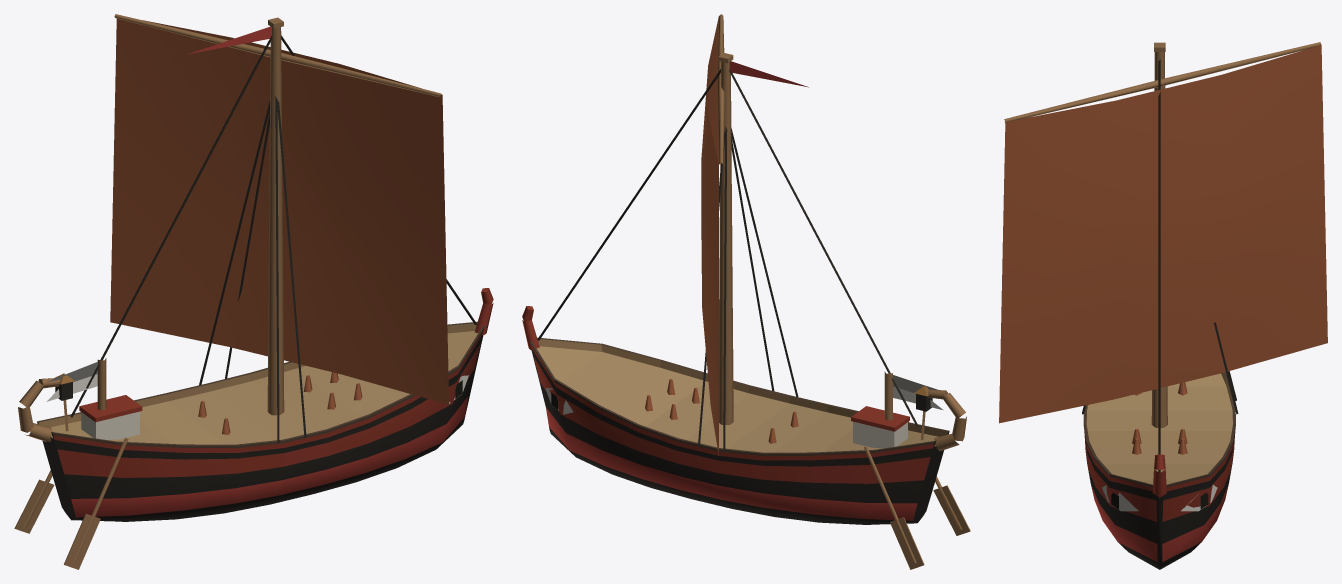
File: hull_eur_greek_medium.glb
3 renders of one model, left to right at view 1: azimuth 30°, elevation 25°; view 2: azimuth 150°, elevation 25°; view 3: azimuth 270°, elevation 25°, orthographic. The views are drawn at different scales.
Parts seen in each view (by area): view 1: sail_main, hull, mast, deck, rigging, yards, flag; view 2: hull, sail_main, deck, rigging, mast, flag, yards; view 3: sail_main, hull, yards, rigging, mast, deck.
Part boxes in pixels (x1,y1,x2,y2): sail_main: (110,18,448,404); hull: (18,288,493,521); mast: (97,17,284,415); deck: (14,372,362,569); rigging: (70,35,476,442); yards: (114,14,441,97); flag: (46,26,271,401); hull: (522,306,966,524); sail_main: (701,16,718,455); deck: (645,379,970,569); rigging: (537,69,918,450); mast: (718,53,892,424); flag: (729,61,943,410); yards: (717,14,724,164); sail_main: (999,45,1327,423); hull: (1083,372,1235,569); yards: (1004,42,1321,122); rigging: (1082,59,1238,472); mast: (1151,42,1167,427); deck: (1132,382,1187,454).
Size of the model in its own units: 14.02 by 13.45 by 8.66.
